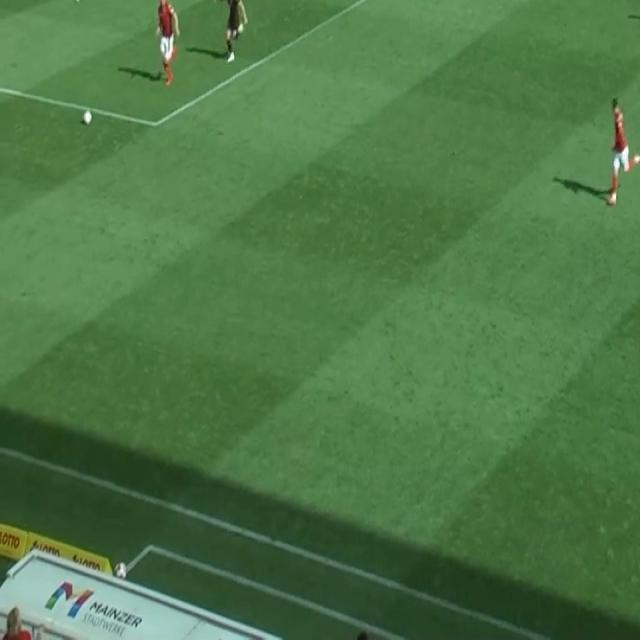ball: (82, 109, 92, 125)
